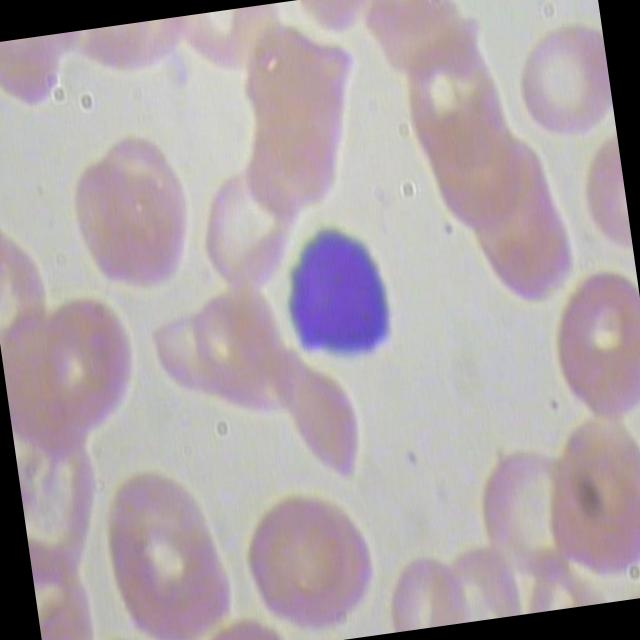RBC: (470, 430, 589, 596), (531, 409, 640, 590), (499, 0, 618, 163), (391, 33, 514, 184), (60, 148, 180, 298), (37, 290, 156, 440), (236, 483, 355, 632), (104, 467, 222, 616), (536, 259, 640, 425), (179, 287, 294, 426), (188, 164, 302, 302), (268, 340, 366, 496)
WBC: (266, 220, 408, 378)
